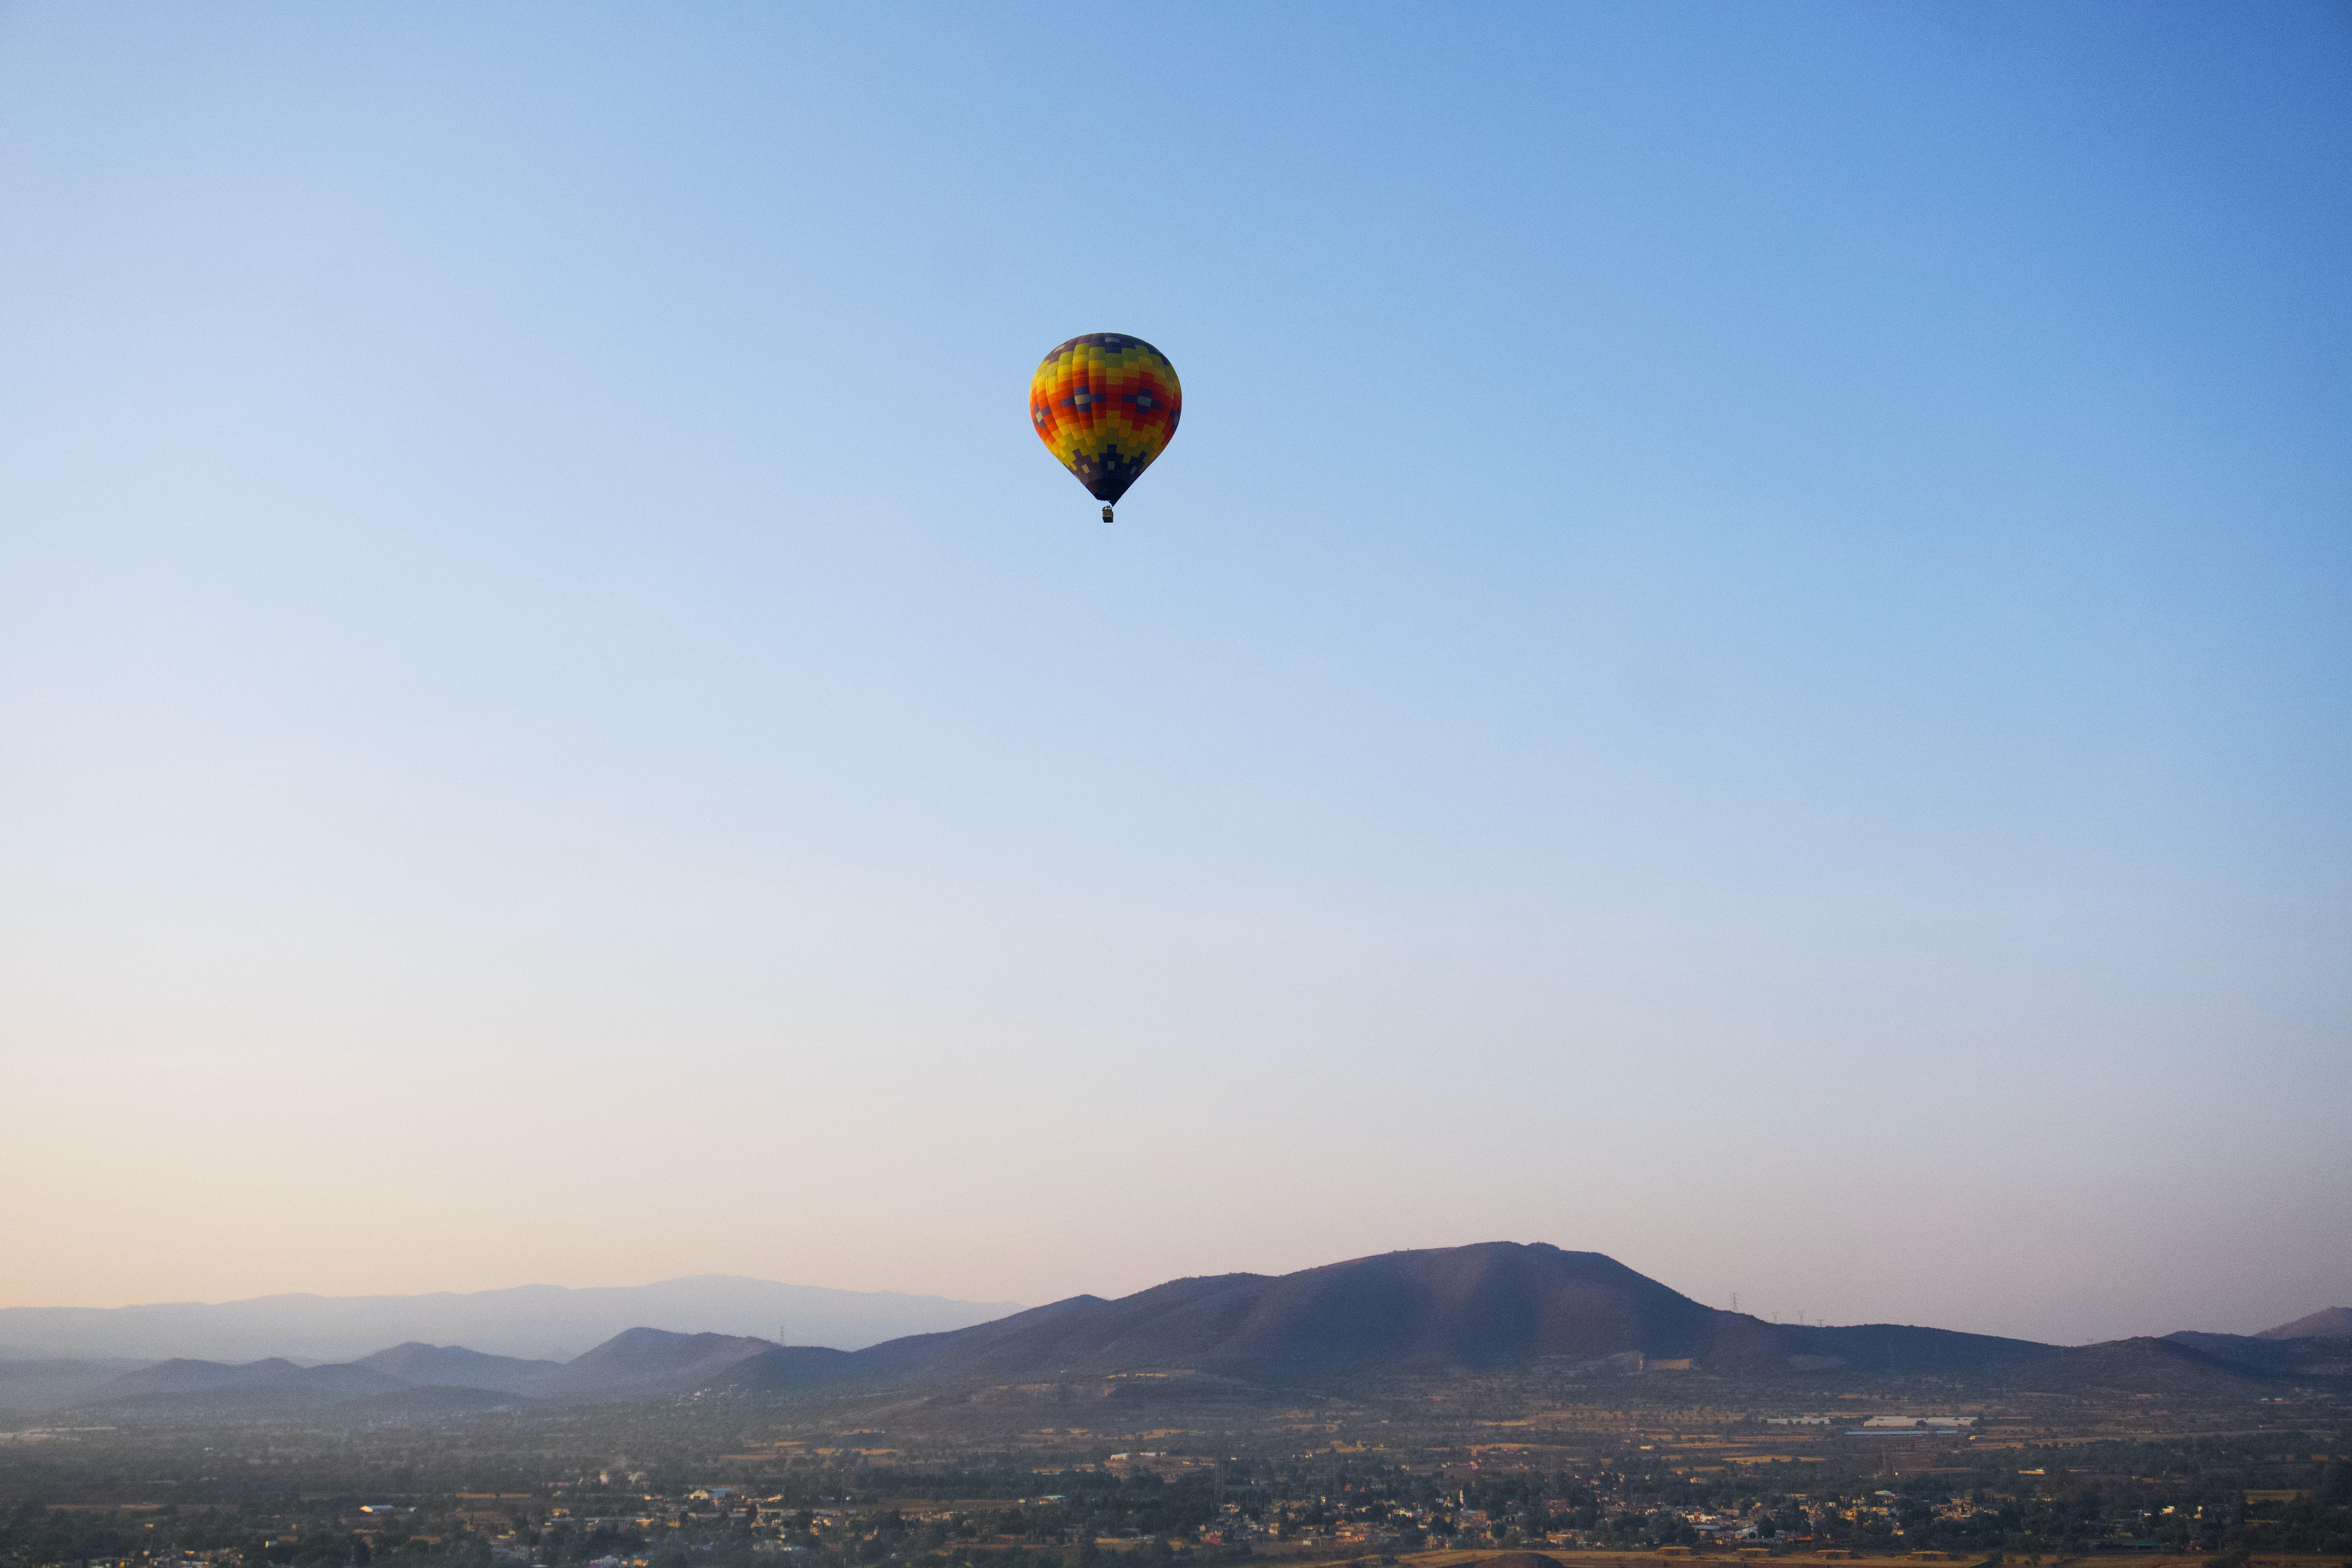hot air ballon: (1029, 333, 1183, 523)
